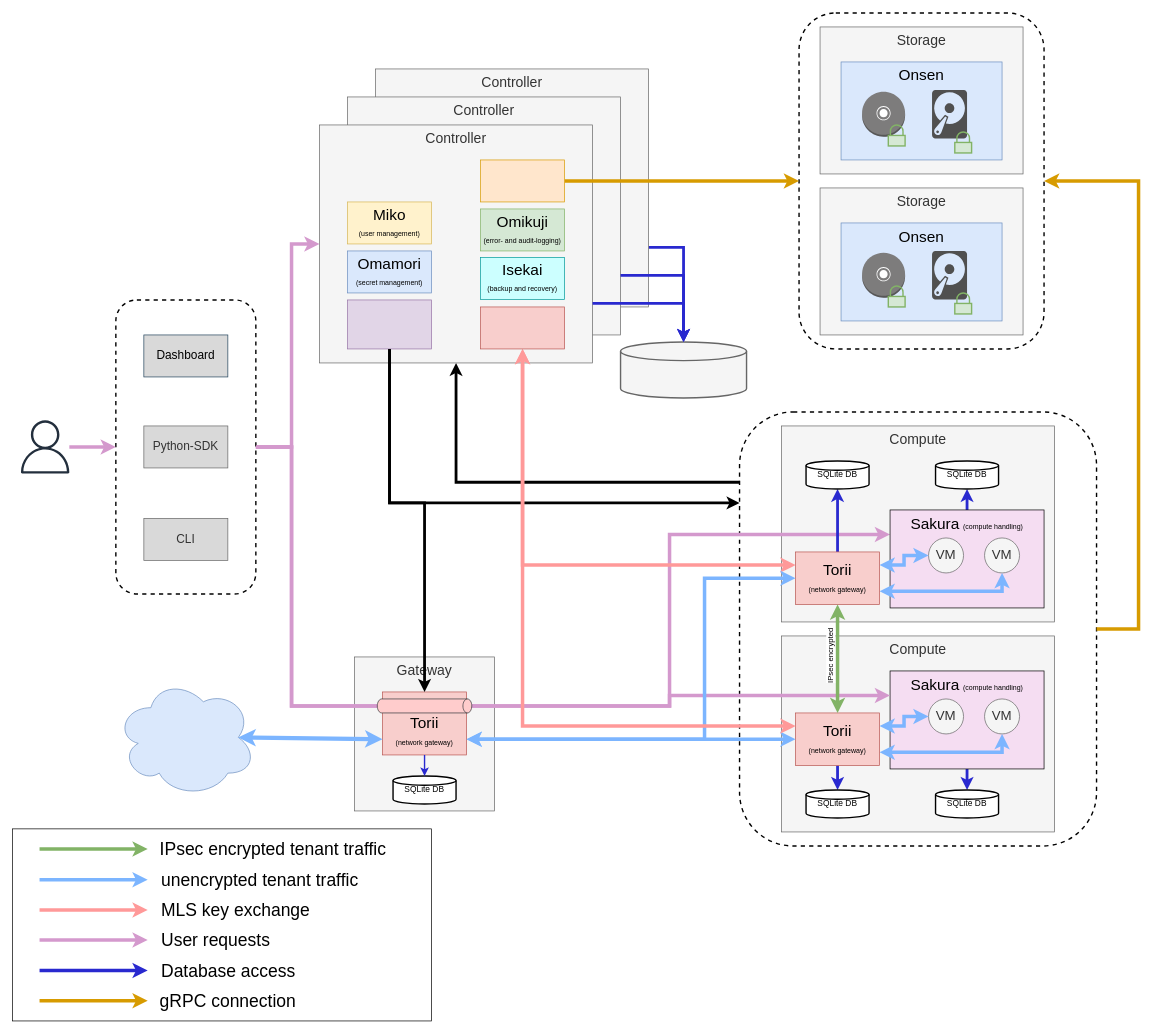
The diagram is 1158 pixels wide and 1033 high, and some of its shapes have lost their labels. Each missing label, with the box of its shape:
Hanami (compute and network management): (347, 299, 432, 349)
Internet: (115, 677, 256, 797)
Izakaya (key-exchange server): (480, 306, 565, 349)
Proxy: (377, 698, 472, 713)
Ryokan (storage management): (480, 159, 565, 202)
SQL Database: (620, 341, 747, 398)
User/Admin: (18, 420, 71, 473)
